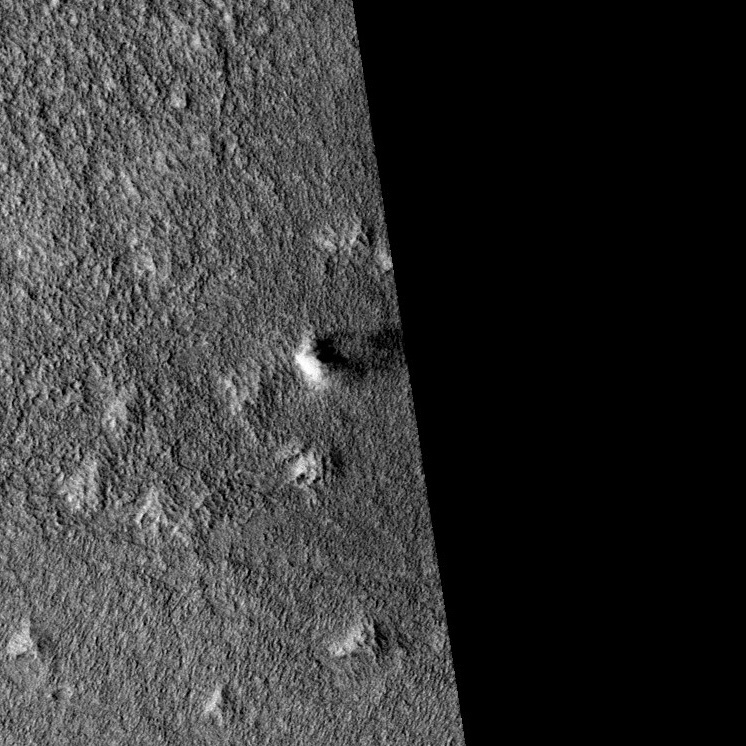dust_devil: (291, 323, 403, 391)
